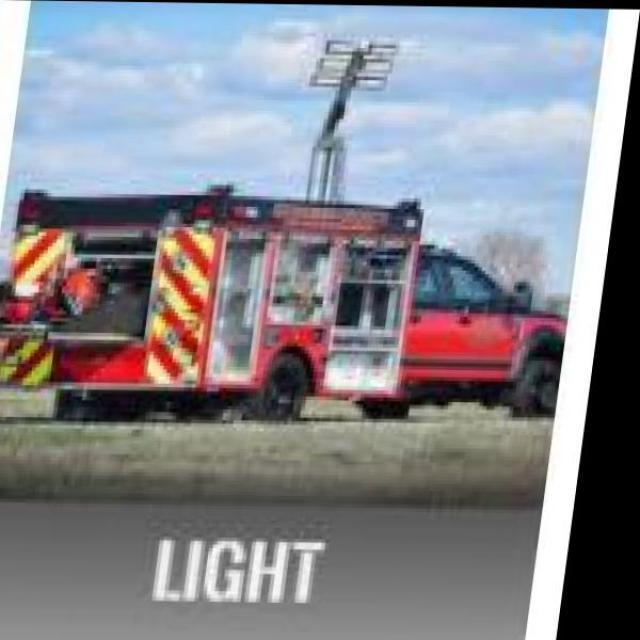emergency: (1, 182, 567, 422)
